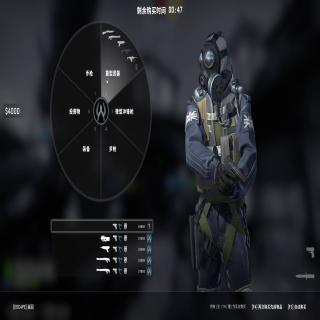CT-Head: (198, 32, 228, 98)
